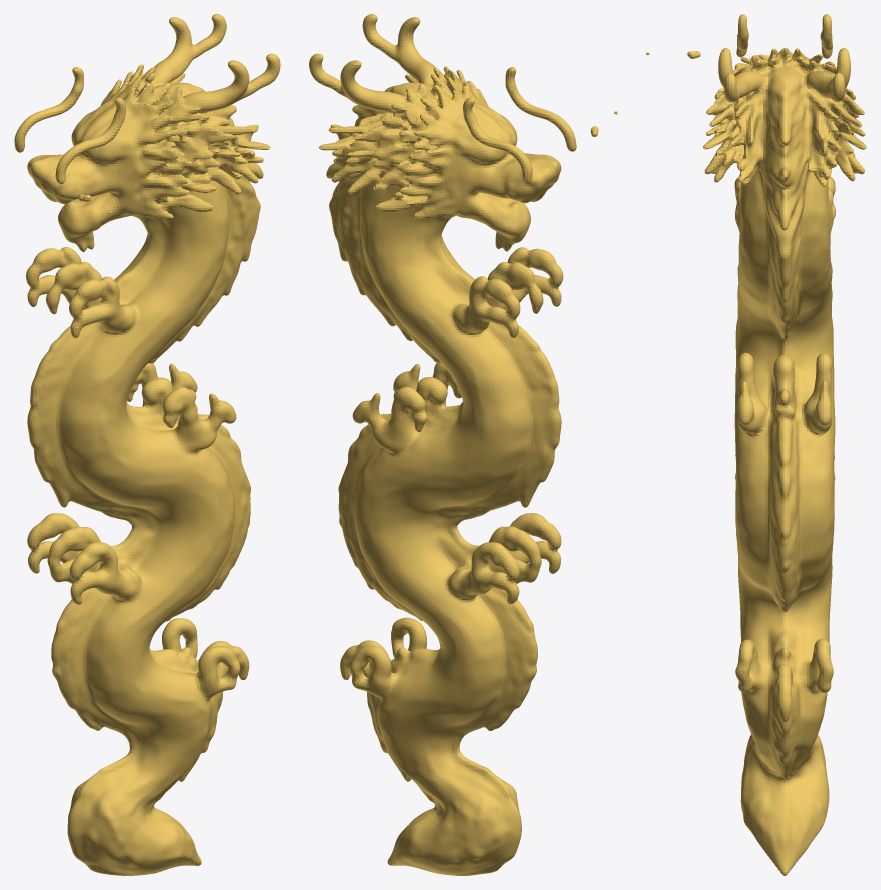
Rendered from dragon-hunyuan-4view-gold.glb.
The picture shows the model from 3 angles, left to right: view 1: azimuth 30°, elevation 25°; view 2: azimuth 150°, elevation 25°; view 3: azimuth 270°, elevation 25°; orthographic projection.
Parts seen in each view (by area): view 1: world; view 2: world; view 3: world.
Part boxes in pixels (<box>): world: <box>14,14,280,875</box>; world: <box>309,14,617,875</box>; world: <box>646,14,866,875</box>.
Size of the model in its own units: 0.5873 by 1.97 by 0.4769.
